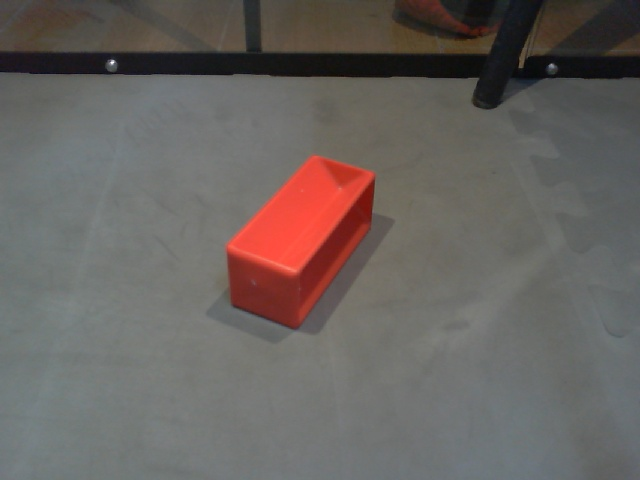RedSample: (222, 153, 378, 335)
